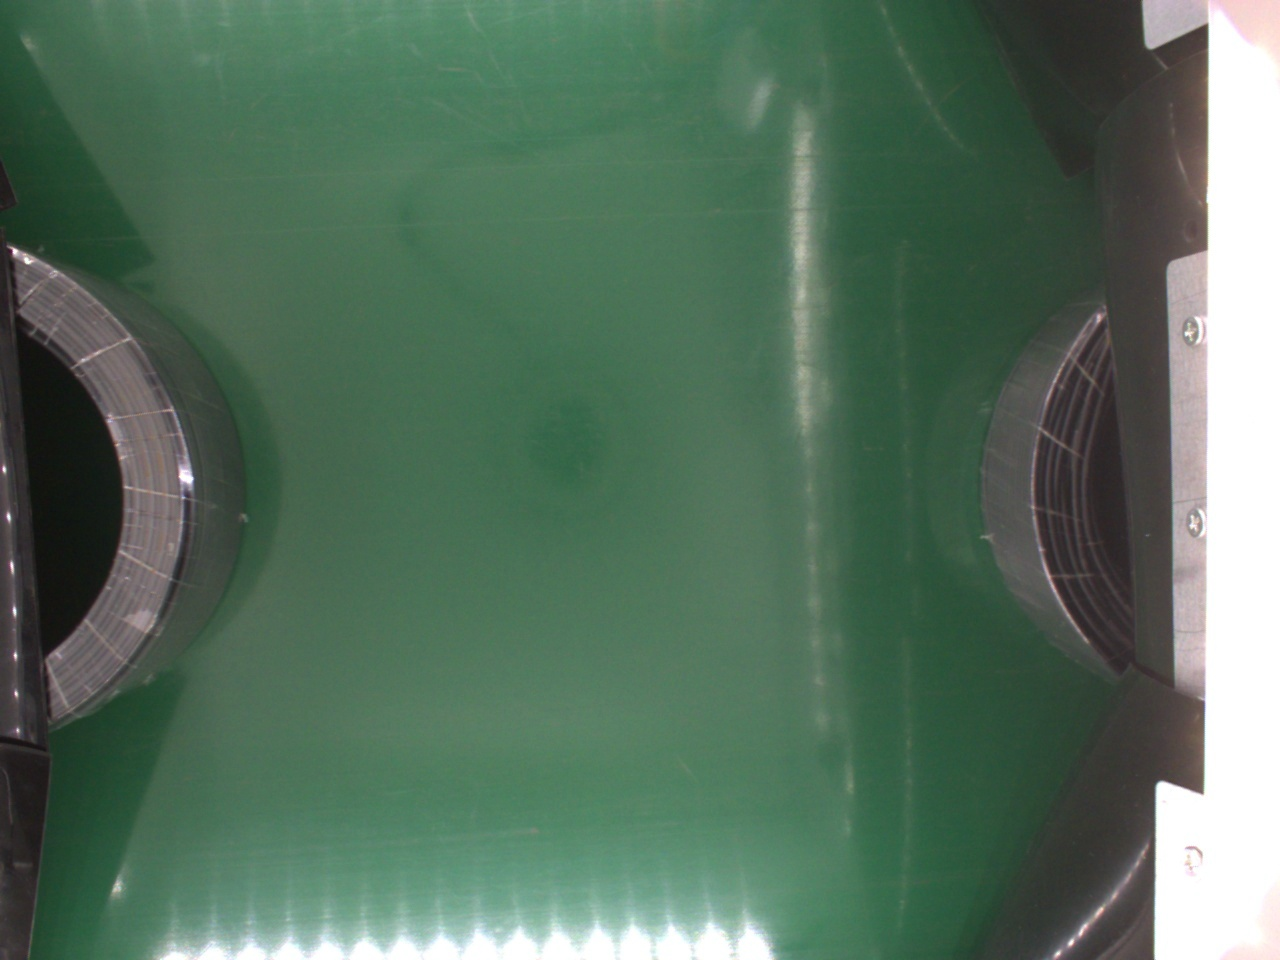black: (16, 246, 251, 728), (980, 292, 1135, 679)
